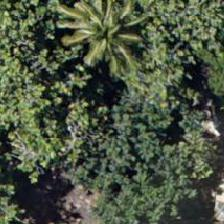coconut_tree: (61, 0, 151, 81)
